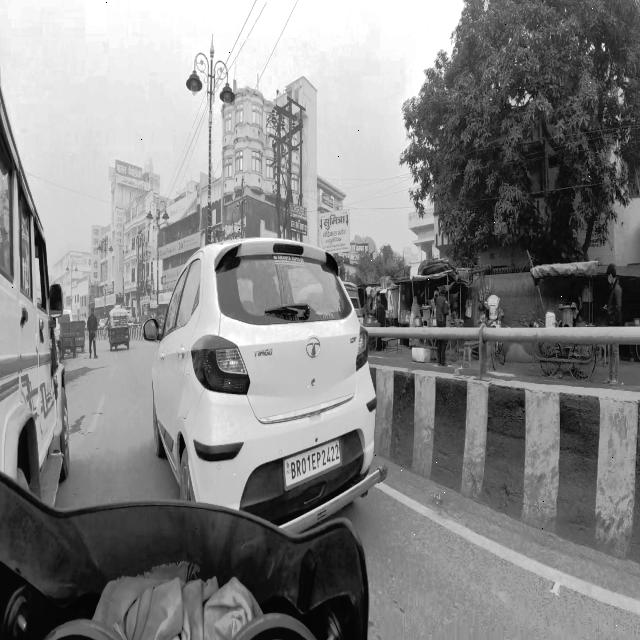Car: (148, 229, 393, 514), (0, 90, 89, 500)
